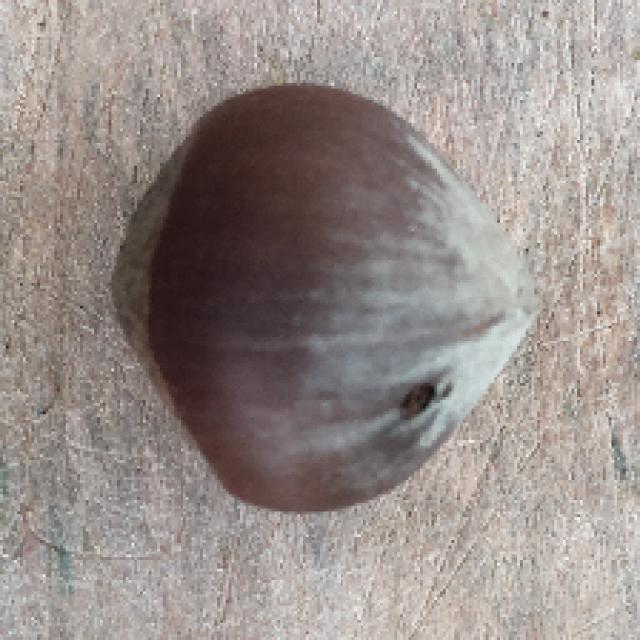damagedHazelnut: (101, 78, 553, 520)
